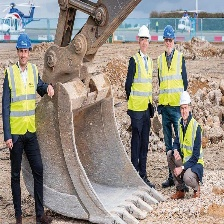helmet: (13, 29, 32, 57), (162, 25, 177, 44), (137, 24, 150, 43), (180, 90, 190, 109)
person: (4, 29, 48, 221), (159, 23, 188, 188), (129, 22, 155, 196), (176, 92, 206, 201)
vest: (158, 50, 190, 159), (7, 62, 44, 143), (131, 48, 155, 118), (177, 119, 203, 176)
